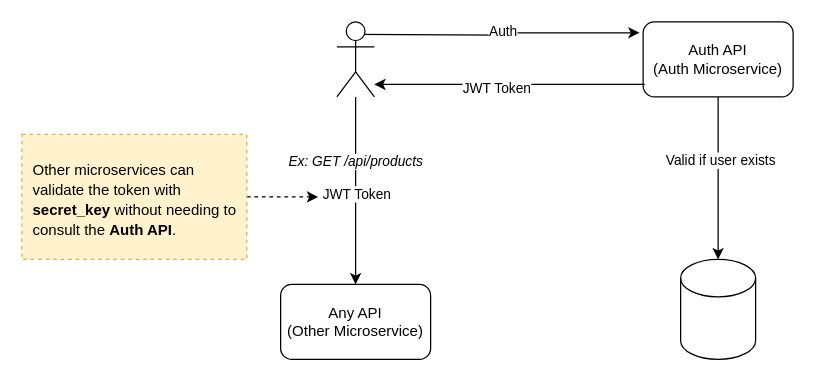
Image size: 815x381. Some labels were removed from this diagram. Here are the shapes that lost their labels. From the top down, the box of each, then its label:
(336, 21, 374, 97): User
(679, 258, 756, 359): Postgres
